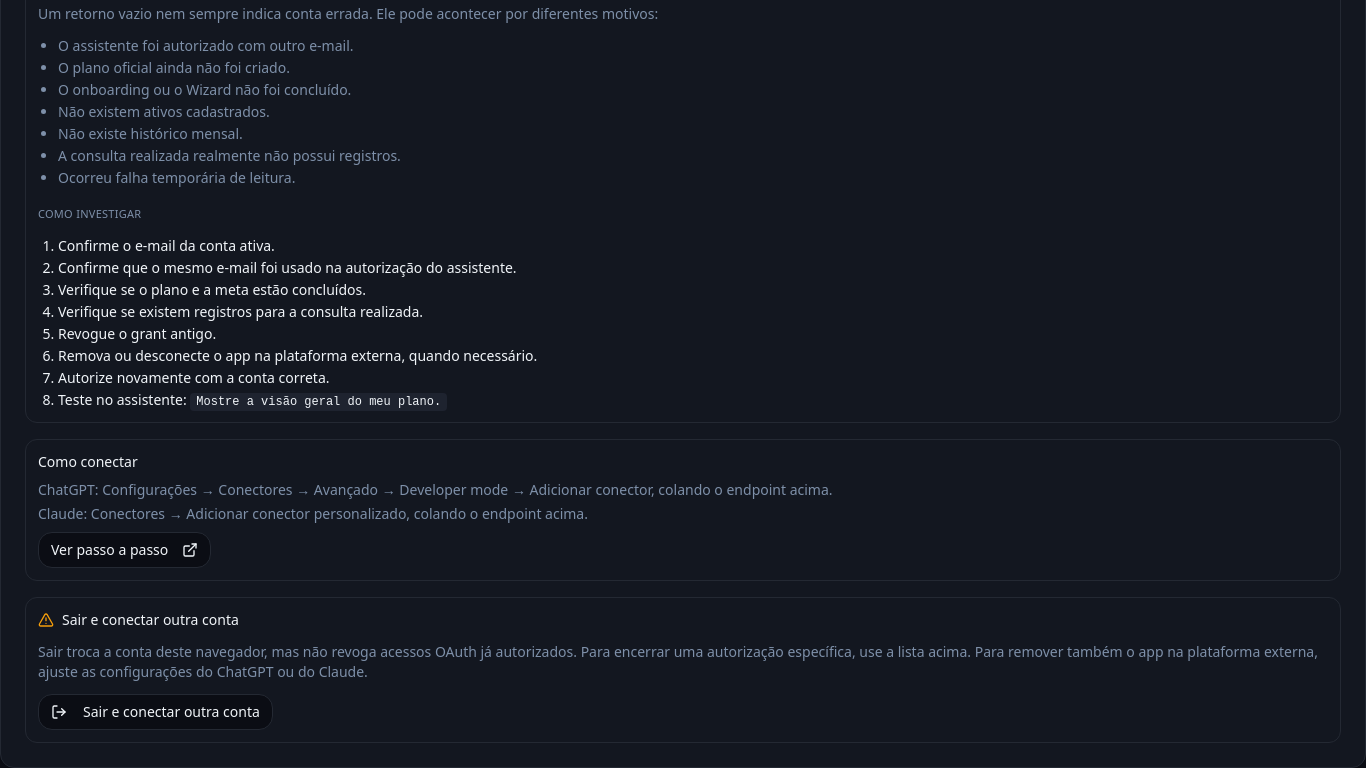
Test: McpConnectionPanel — troca de conta › chama onSwitchAccount (não é apresentado como revogação)
Later steps or results of the test are not shown.
(page scrolled)
Click the button "Sair e conectar outra conta".
click(155, 712)  # box [38,694,273,730]
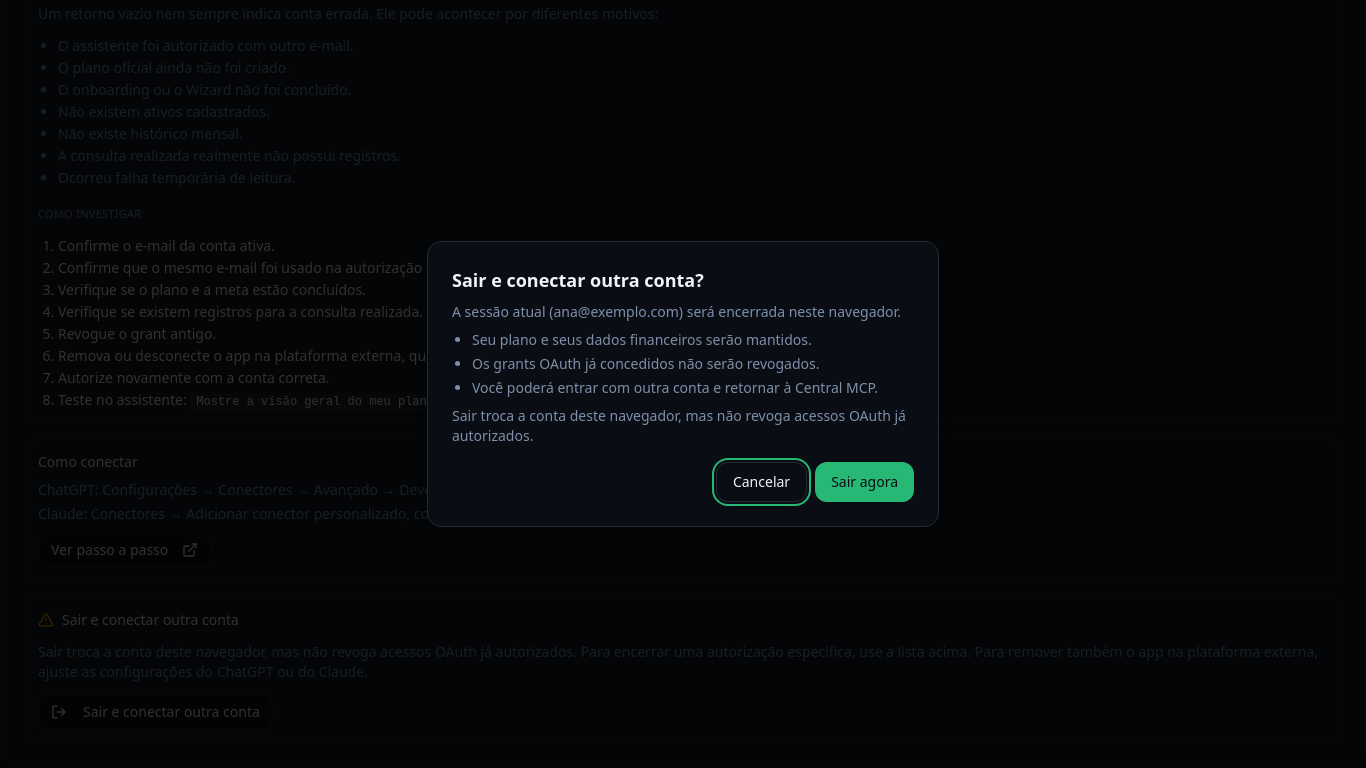
Now the text "não revoga acessos OAuth" is shown, box [452,406,906,445]
Now the list item "Seu plano e seus dados financeiros serão mantidos." is shown, box [472,330,812,349]
